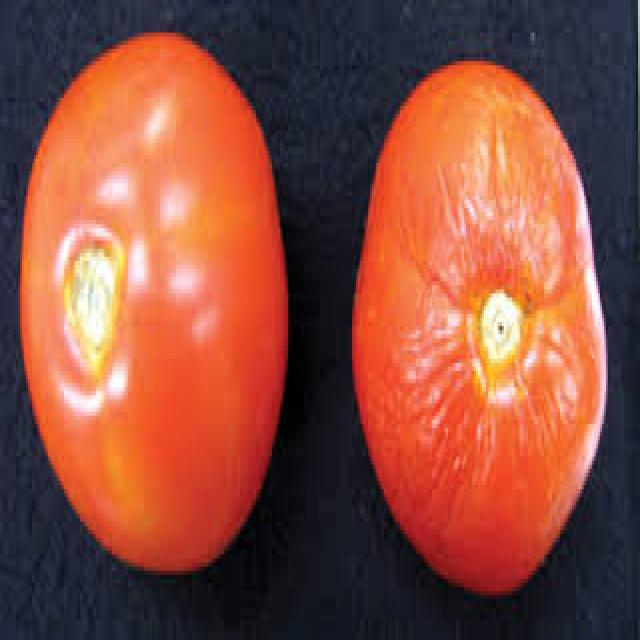Fresh_tomato: (26, 37, 282, 550)
